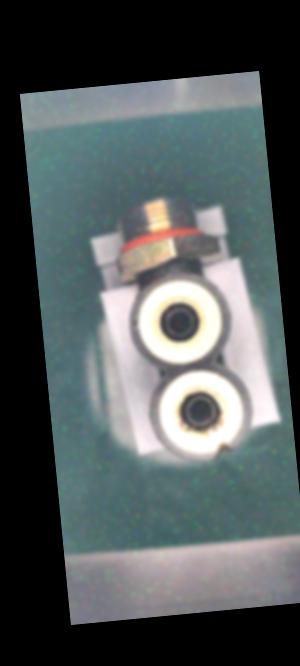bump: (206, 432, 238, 465)
craze: (162, 264, 172, 277)
